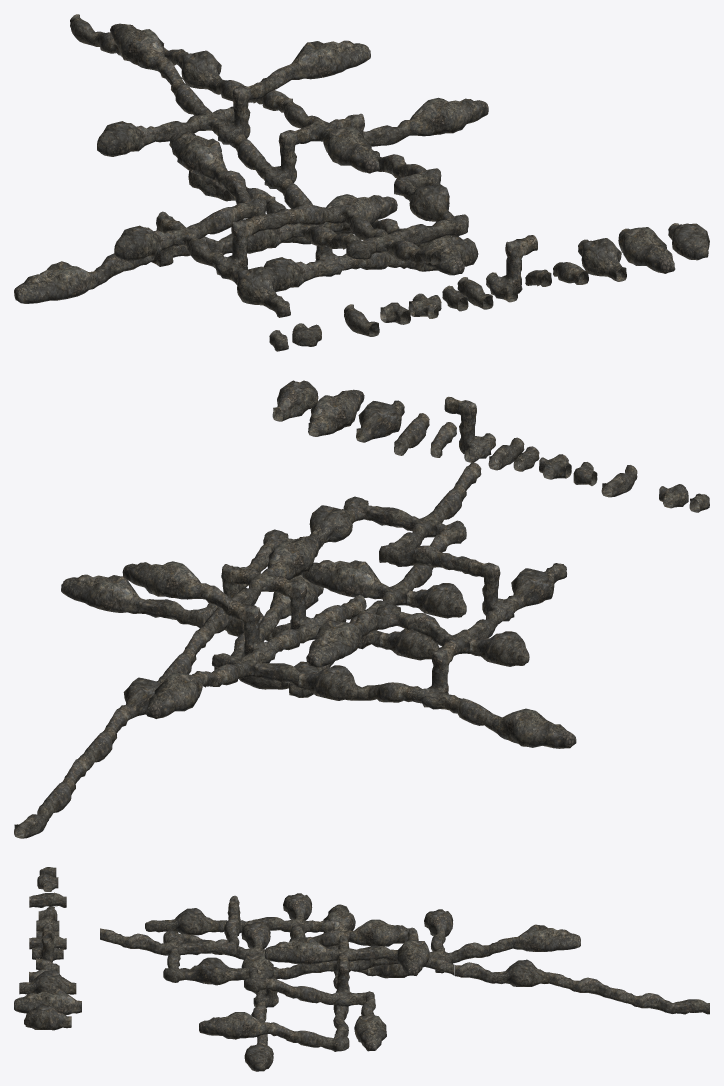
File: modular_caves.glb
3 views of the same model, one above another, from view 1: azimuth 30°, elevation 25°; view 2: azimuth 150°, elevation 25°; view 3: azimuth 270°, elevation 25° (orthographic). The views are drawn at different scales.
Parts seen in each view (by area): view 1: Shape021, Shape026, Shape016, Shape015, mine_12, Shape025, Shape030, mine_08, Shape019, Shape029, mine_11, Object059_mine_0 (+36 smaller); view 2: Shape016, Shape021, Shape026, Shape014, Shape025, mine_12, Shape030, Shape015, mine_08, Object046_mine_0, Shape018, Shape029 (+22 smaller); view 3: Shape015, Shape030, Shape022, Shape025, mine_12, Shape012, Shape028, Shape013, mine_13, Shape026, Shape016, mine_11 (+25 smaller).
Part boxes in pixels (x1,y1,x2,y2): Shape021: (14,261,98,303); Shape026: (289,40,370,79); Shape016: (405,97,488,136); Shape015: (323,126,379,173); mine_12: (618,227,675,273); Shape025: (169,132,225,180); Shape030: (110,23,165,70); mine_08: (486,235,537,302); Shape019: (114,225,173,261); Shape029: (97,121,155,156); mine_11: (578,238,626,281); Object059_mine_0: (213,82,264,147); Shape016: (61,574,142,613); Shape021: (492,708,576,748); Shape026: (122,561,205,599); Shape014: (302,560,383,599); Shape025: (306,620,362,667); mine_12: (308,389,364,436); Shape030: (146,672,202,718); Shape015: (267,535,322,579); mine_08: (444,396,495,462); Object046_mine_0: (412,641,457,710); Shape018: (407,583,466,618); Shape029: (298,665,358,700); Shape015: (265,937,332,964); Shape030: (513,924,580,951); Shape022: (199,1012,266,1039); Shape025: (349,919,409,946); mine_12: (14,988,81,1015); Shape012: (185,957,242,985); Shape028: (492,959,549,986); Shape013: (161,908,218,935); mine_13: (24,1004,71,1030); Shape026: (397,939,429,975); Shape016: (354,1014,386,1051); mine_11: (19,970,76,994).
Size of the model in its own units: 164 by 48.26 by 271.
Materials: 1 (1 with a texture image).
